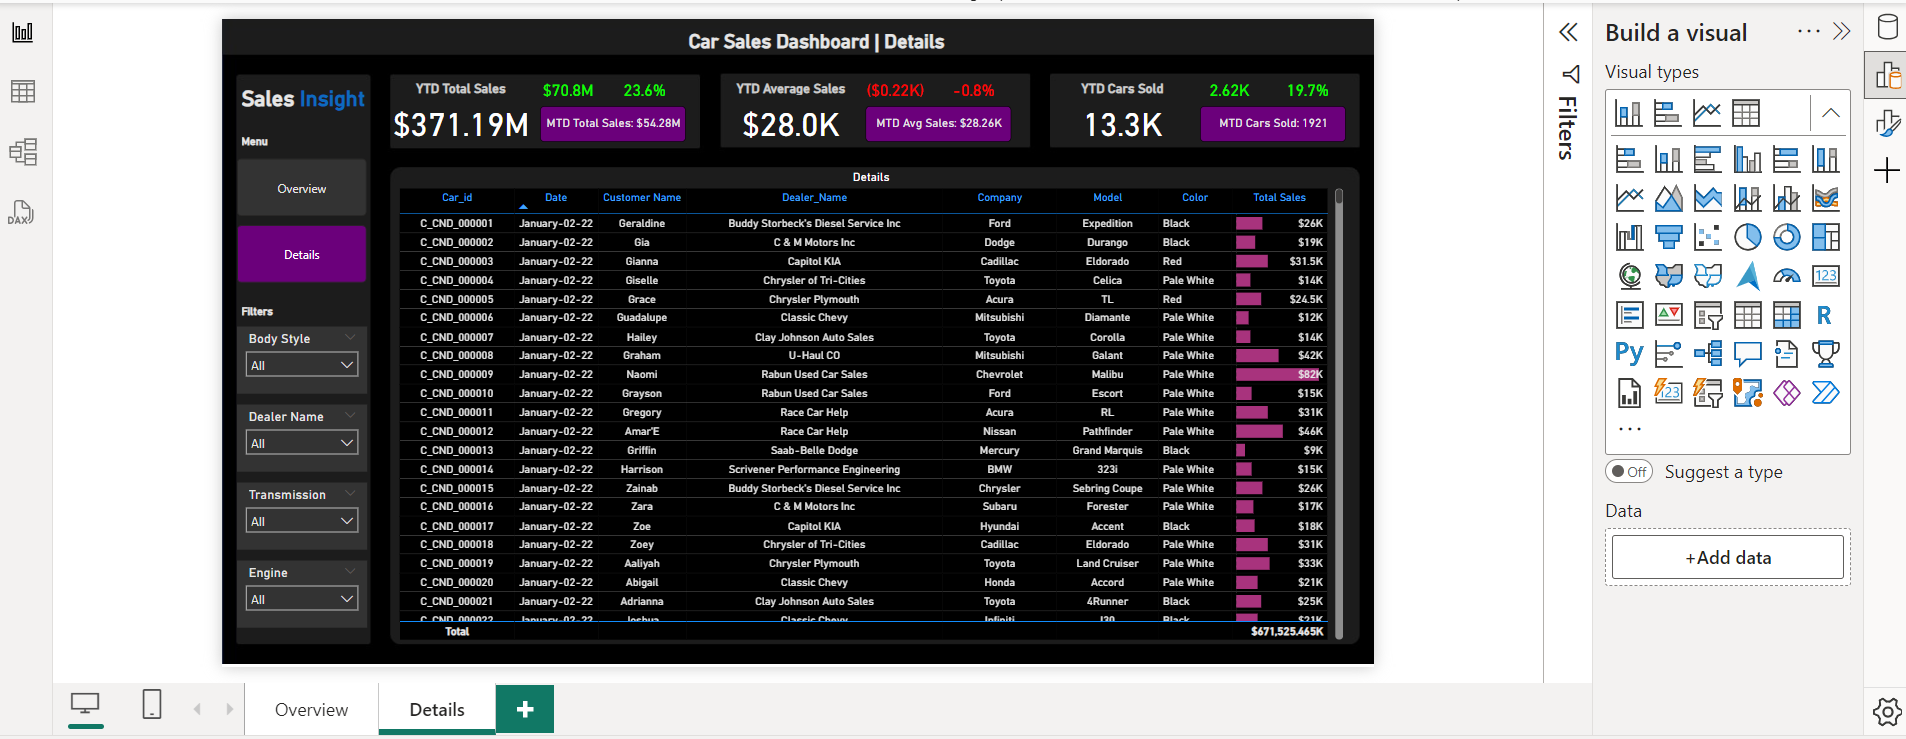

The page's visual inventory and layout, read from the dashboard file:
{"tool":"powerbi","page":{"name":"Details","canvas":[1280,720],"ordinal":1},"visuals":[{"type":"card","title":"YTD Total Sales","fields":{"Values":["car_data.YTD Total Sales"]},"box":[187.5,68.7,154.2,69.9],"z":0},{"type":"card","title":"YTD Total Sales","fields":{"Values":["car_data.Sales Difference"]},"box":[341.2,60.4,85.8,39.7],"z":1000},{"type":"card","title":"YTD Total Sales","fields":{"Values":["car_data.YoY Sales Growth"]},"box":[427.1,60.4,85.8,39.7],"z":2000},{"type":"card","title":"YTD Total Sales","fields":{"Values":["car_data.MTD KPI"]},"box":[352.8,97.3,162.1,39.7],"z":3000},{"type":"card","title":"YTD Average Sales","fields":{"Values":["car_data.YTD Average Price"]},"box":[555.2,68.7,154.2,69.9],"z":4000},{"type":"card","title":"YTD Total Sales","fields":{"Values":["car_data.Average Sales Difference"]},"box":[705.7,60.4,85.8,39.7],"z":5000},{"type":"card","title":"YTD Total Sales","fields":{"Values":["car_data.YoY Average Sales Growth"]},"box":[792,60.4,85.8,39.7],"z":6000},{"type":"card","title":"YTD Total Sales","fields":{"Values":["car_data.MTD Average KPI"]},"box":[715.2,97.3,162.1,39.7],"z":7000},{"type":"card","title":"YTD Cars Sold","fields":{"Values":["car_data.YTD Cars Sold"]},"box":[922.8,68.7,154.2,69.9],"z":8000},{"type":"card","title":"YTD Total Sales","fields":{"Values":["car_data.Cars Sold Difference"]},"box":[1077,60.4,85.8,39.7],"z":9000},{"type":"card","title":"YTD Total Sales","fields":{"Values":["car_data.YoY Cars Sold Growth"]},"box":[1163.3,60.4,85.8,39.7],"z":10000},{"type":"card","title":"YTD Total Sales","fields":{"Values":["car_data.MTD Cars KPI"]},"box":[1086.6,97.3,162.1,39.7],"z":11000},{"type":"textbox","box":[435.5,6.4,451.4,39.7],"z":12000},{"type":"slicer","fields":{"Values":["car_data.Body Style"]},"box":[15.9,341.7,144.6,74.7],"z":13000},{"type":"slicer","fields":{"Values":["car_data.Dealer_Name"]},"box":[15.9,428.6,144.6,74.7],"z":14000},{"type":"slicer","fields":{"Values":["car_data.Transmission"]},"box":[15.9,515.5,144.6,74.7],"z":15000},{"type":"slicer","fields":{"Values":["car_data.Engine"]},"box":[15.9,602.4,144.6,74.7],"z":16000},{"type":"textbox","box":[15.9,308.3,73.1,33.4],"z":17000},{"type":"tableEx","title":"Details","fields":{"Values":["car_data.Car_id","car_data.Date","car_data.Customer Name","car_data.Dealer_Name","car_data.Company","car_data.Model","car_data.Color","car_data.Price ($)"]},"box":[192.4,168.1,1059.2,526.6],"z":18000},{"type":"textbox","box":[15.9,120.8,62,33.4],"z":19000},{"type":"textbox","box":[15.9,68.3,149.4,68.3],"z":20000},{"type":"pageNavigator","box":[17.5,154.2,144.6,139.9],"z":21000}]}

Visuals, with their boxes on the page's 1280x720 design canvas (x1, y1, x2, y2). These are canvas units, not pixel positions in the 1906x739 screenshot, which may show the page scaled, cropped or inside an application window:
"YTD Total Sales" card: (188, 69, 342, 139)
"YTD Total Sales" card: (341, 60, 427, 100)
"YTD Total Sales" card: (427, 60, 513, 100)
"YTD Total Sales" card: (353, 97, 515, 137)
"YTD Average Sales" card: (555, 69, 709, 139)
"YTD Total Sales" card: (706, 60, 792, 100)
"YTD Total Sales" card: (792, 60, 878, 100)
"YTD Total Sales" card: (715, 97, 877, 137)
"YTD Cars Sold" card: (923, 69, 1077, 139)
"YTD Total Sales" card: (1077, 60, 1163, 100)
"YTD Total Sales" card: (1163, 60, 1249, 100)
"YTD Total Sales" card: (1087, 97, 1249, 137)
textbox: (436, 6, 887, 46)
slicer - car_data.Body Style: (16, 342, 160, 416)
slicer - car_data.Dealer_Name: (16, 429, 160, 503)
slicer - car_data.Transmission: (16, 516, 160, 590)
slicer - car_data.Engine: (16, 602, 160, 677)
textbox: (16, 308, 89, 342)
"Details" tableEx: (192, 168, 1252, 695)
textbox: (16, 121, 78, 154)
textbox: (16, 68, 165, 137)
pageNavigator: (18, 154, 162, 294)
